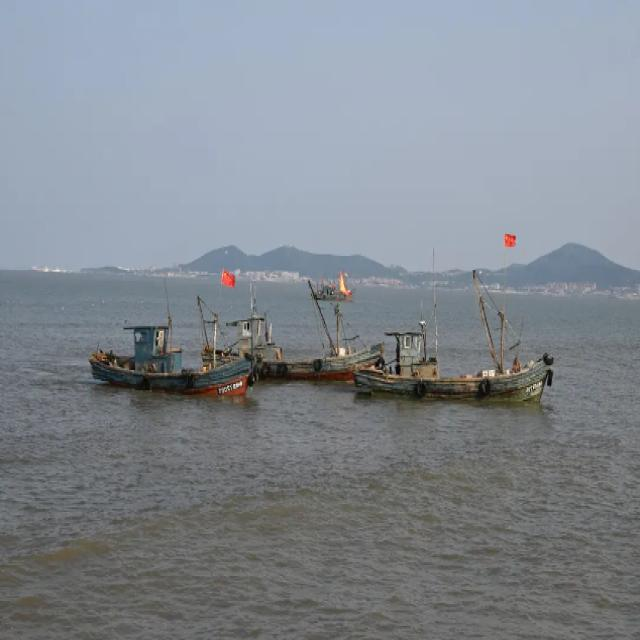fishing boat: (358, 274, 556, 405), (202, 292, 381, 382), (82, 307, 258, 397), (308, 269, 358, 300)
